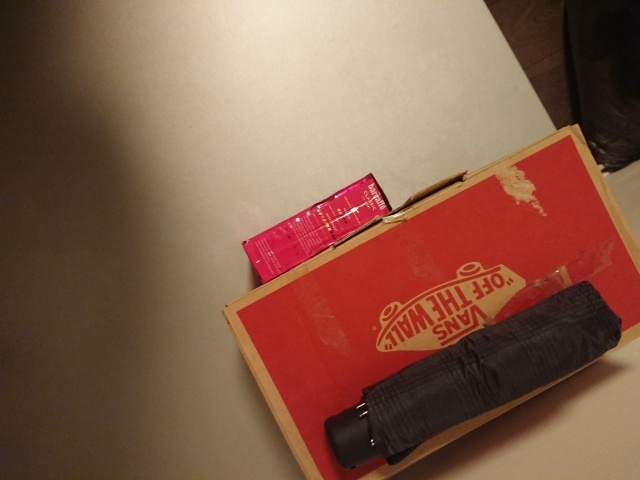Barcaffe Classic Original 225g: (239, 169, 395, 288)
